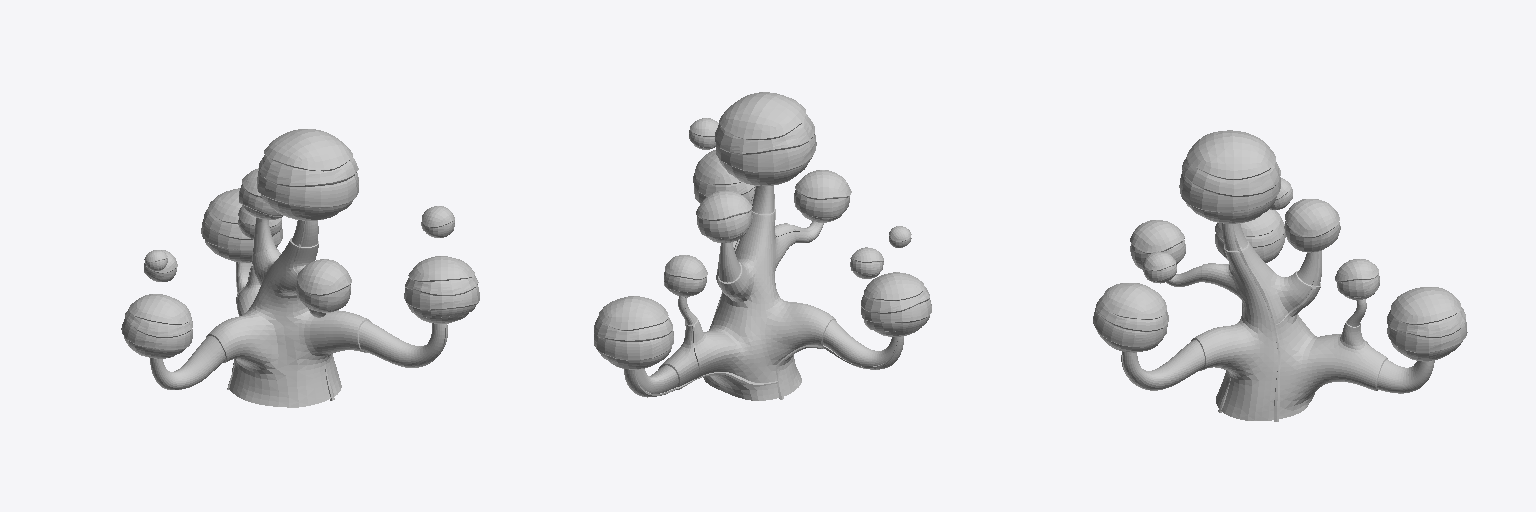
The model's file is tree-03-02.obj.
3 renders of one model, left to right at view 1: azimuth 30°, elevation 25°; view 2: azimuth 150°, elevation 25°; view 3: azimuth 270°, elevation 25°, orthographic.
Parts seen in each view (by area): view 1: trunk tree_03 Trees, tree_03 Trees pasted__section_01 bulb_large_08, tree_03 Trees bulb_large_08 pasted__section_03, tree_03 Trees bulb_large_08 pasted__section_02, tree_03 Trees pasted__section_01 bulb_small_14, tree_03 Trees pasted__section_01 bulb_large_11, tree_03 Trees pasted__section_01 bulb_large_10, tree_03 Trees bulb_large_10 pasted__section_03, tree_03 Trees bulb_large_11 pasted__section_03, tree_03 Trees bulb_large_10 pasted__section_02, tree_03 Trees bulb_large_11 pasted__section_02, tree_03 Trees pasted__section_01 bulb_large_09 (+5 smaller); view 2: trunk tree_03 Trees, tree_03 Trees pasted__section_01 bulb_large_08, tree_03 Trees pasted__section_01 bulb_large_09, tree_03 Trees bulb_large_08 pasted__section_03, tree_03 Trees bulb_large_08 pasted__section_02, tree_03 Trees vines, tree_03 Trees bulb_large_09 pasted__section_03, tree_03 Trees pasted__section_01 bulb_large_11, tree_03 Trees pasted__section_01 bulb_small_14, tree_03 Trees pasted__section_01 bulb_small_12, tree_03 Trees bulb_large_09 pasted__section_02, tree_03 Trees bulb_small_12 pasted__section_02 (+8 smaller); view 3: trunk tree_03 Trees, tree_03 Trees pasted__section_01 bulb_large_08, tree_03 Trees pasted__section_01 bulb_large_09, tree_03 Trees pasted__section_01 bulb_large_10, tree_03 Trees bulb_large_08 pasted__section_02, tree_03 Trees bulb_large_08 pasted__section_03, tree_03 Trees pasted__section_01 bulb_small_12, tree_03 Trees pasted__section_01 bulb_small_14, tree_03 Trees vines, tree_03 Trees bulb_large_09 pasted__section_03, tree_03 Trees bulb_large_10 pasted__section_03, tree_03 Trees bulb_large_09 pasted__section_02 (+7 smaller).
Boxes of the visible parts, x1,y1,x2,y2 form: trunk tree_03 Trees: [150, 218, 447, 407]; tree_03 Trees pasted__section_01 bulb_large_08: [264, 129, 352, 171]; tree_03 Trees bulb_large_08 pasted__section_03: [257, 171, 358, 208]; tree_03 Trees bulb_large_08 pasted__section_02: [259, 155, 358, 186]; tree_03 Trees pasted__section_01 bulb_small_14: [297, 259, 351, 295]; tree_03 Trees pasted__section_01 bulb_large_11: [129, 294, 190, 324]; tree_03 Trees pasted__section_01 bulb_large_10: [408, 256, 474, 281]; tree_03 Trees bulb_large_10 pasted__section_03: [404, 285, 479, 310]; tree_03 Trees bulb_large_11 pasted__section_03: [121, 317, 192, 349]; tree_03 Trees bulb_large_10 pasted__section_02: [405, 275, 478, 295]; tree_03 Trees bulb_large_11 pasted__section_02: [125, 309, 192, 337]; tree_03 Trees pasted__section_01 bulb_large_09: [209, 188, 241, 223]; trunk tree_03 Trees: [624, 186, 903, 400]; tree_03 Trees pasted__section_01 bulb_large_08: [719, 92, 805, 139]; tree_03 Trees pasted__section_01 bulb_large_09: [599, 296, 668, 330]; tree_03 Trees bulb_large_08 pasted__section_03: [716, 135, 816, 172]; tree_03 Trees bulb_large_08 pasted__section_02: [715, 114, 814, 154]; tree_03 Trees vines: [633, 186, 899, 399]; tree_03 Trees bulb_large_09 pasted__section_03: [594, 331, 673, 360]; tree_03 Trees pasted__section_01 bulb_large_11: [864, 272, 923, 300]; tree_03 Trees pasted__section_01 bulb_small_14: [795, 170, 851, 199]; tree_03 Trees pasted__section_01 bulb_small_12: [696, 190, 752, 220]; tree_03 Trees bulb_large_09 pasted__section_02: [594, 316, 672, 341]; tree_03 Trees bulb_small_12 pasted__section_02: [697, 210, 752, 238]; trunk tree_03 Trees: [1123, 223, 1434, 420]; tree_03 Trees pasted__section_01 bulb_large_08: [1187, 130, 1275, 179]; tree_03 Trees pasted__section_01 bulb_large_09: [1391, 287, 1460, 324]; tree_03 Trees pasted__section_01 bulb_large_10: [1103, 283, 1166, 319]; tree_03 Trees bulb_large_08 pasted__section_02: [1182, 157, 1280, 196]; tree_03 Trees bulb_large_08 pasted__section_03: [1179, 171, 1280, 212]; tree_03 Trees pasted__section_01 bulb_small_12: [1285, 199, 1339, 237]; tree_03 Trees pasted__section_01 bulb_small_14: [1130, 220, 1184, 253]; tree_03 Trees vines: [1121, 224, 1368, 421]; tree_03 Trees bulb_large_09 pasted__section_03: [1387, 319, 1467, 352]; tree_03 Trees bulb_large_10 pasted__section_03: [1093, 310, 1167, 346]; tree_03 Trees bulb_large_09 pasted__section_02: [1387, 307, 1465, 337].
Size of the model in its own units: 2.77 by 2.46 by 3.11.